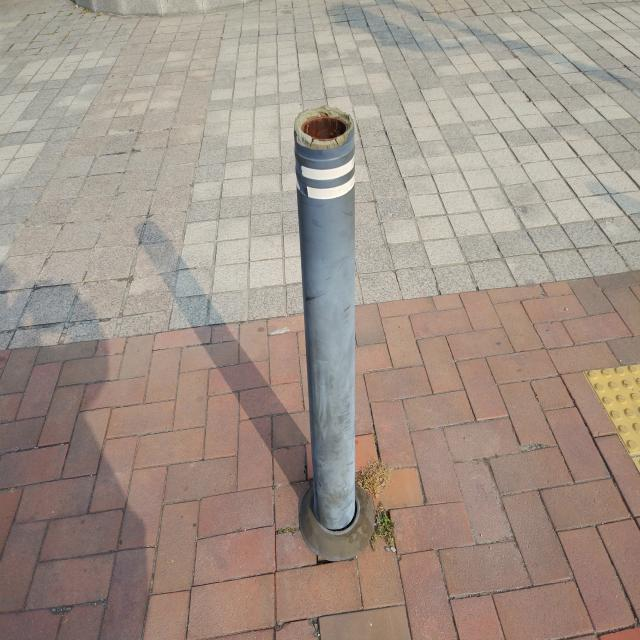pole: (290, 104, 363, 548)
